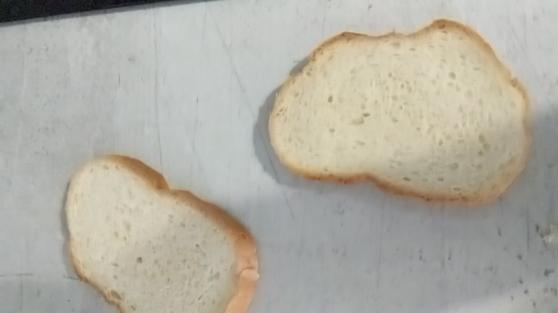white_bread: (264, 16, 532, 203), (61, 152, 261, 313)
